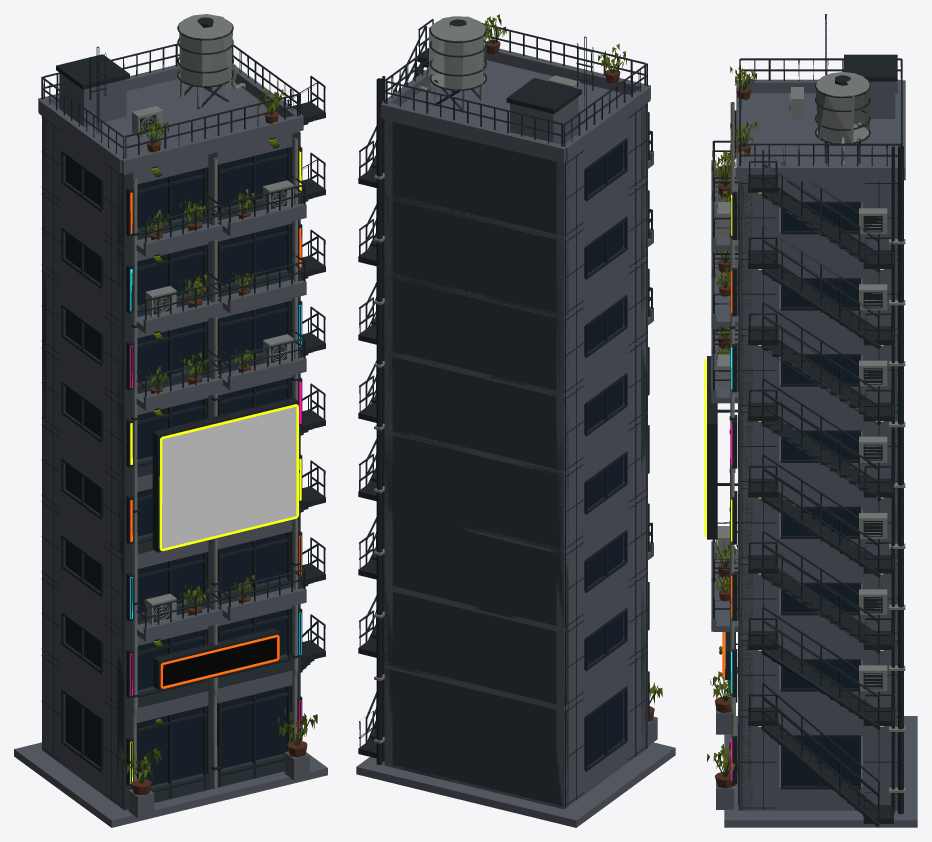
File: runner-building-05.glb
3 views of the same model, side by side, from view 1: azimuth 30°, elevation 25°; view 2: azimuth 150°, elevation 25°; view 3: azimuth 270°, elevation 25° (orthographic). The views are drawn at different scales.
Parts seen in each view (by area): view 1: building-05, building-05-ad; view 2: building-05; view 3: building-05.
Boxes of the visible parts, x1,y1,x2,y2 form: building-05: [14, 14, 327, 827]; building-05-ad: [162, 407, 296, 548]; building-05: [356, 14, 675, 827]; building-05: [704, 14, 917, 827].
Bounding box in the file's own units: 3.41 × 10.63 × 2.79.
